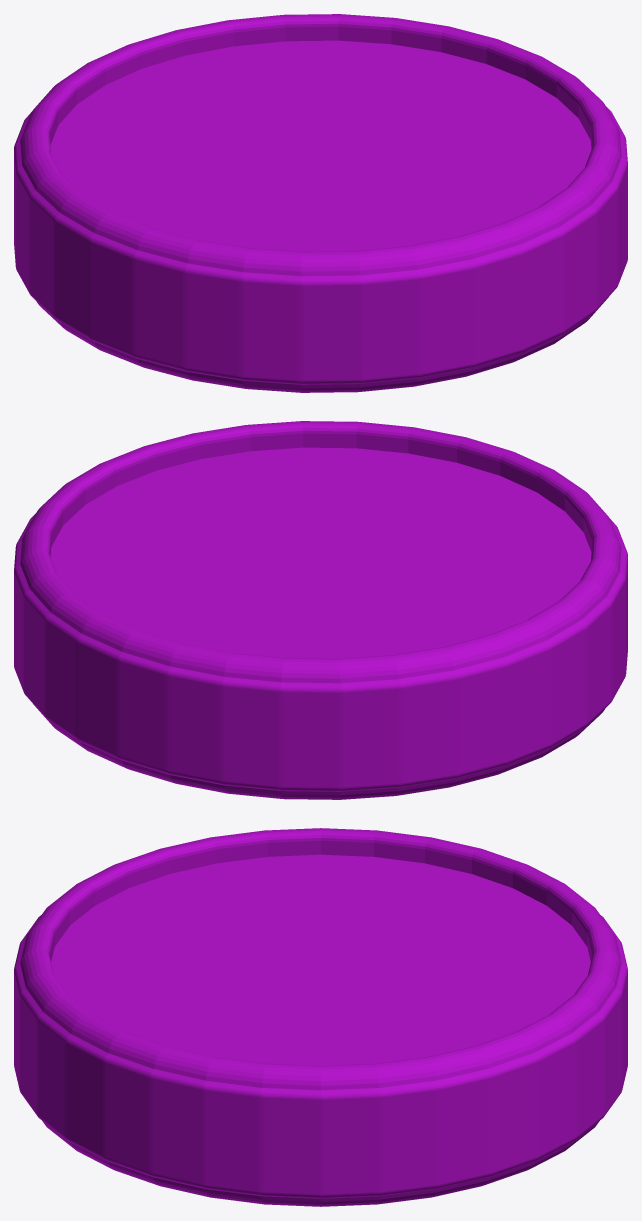
File: PlateNew.fbx
3 views of the same model, one above another, from view 1: azimuth 30°, elevation 25°; view 2: azimuth 150°, elevation 25°; view 3: azimuth 270°, elevation 25° (orthographic).
Parts seen in each view (by area): view 1: PlateHashi.001; view 2: PlateHashi.001; view 3: PlateHashi.001.
Part boxes in pixels (box(x1,y1,x2,y2)): PlateHashi.001: box(14, 14, 627, 392); PlateHashi.001: box(14, 421, 627, 799); PlateHashi.001: box(14, 828, 627, 1206).
Bounding box in the file's own units: 222 × 222 × 55.06.
